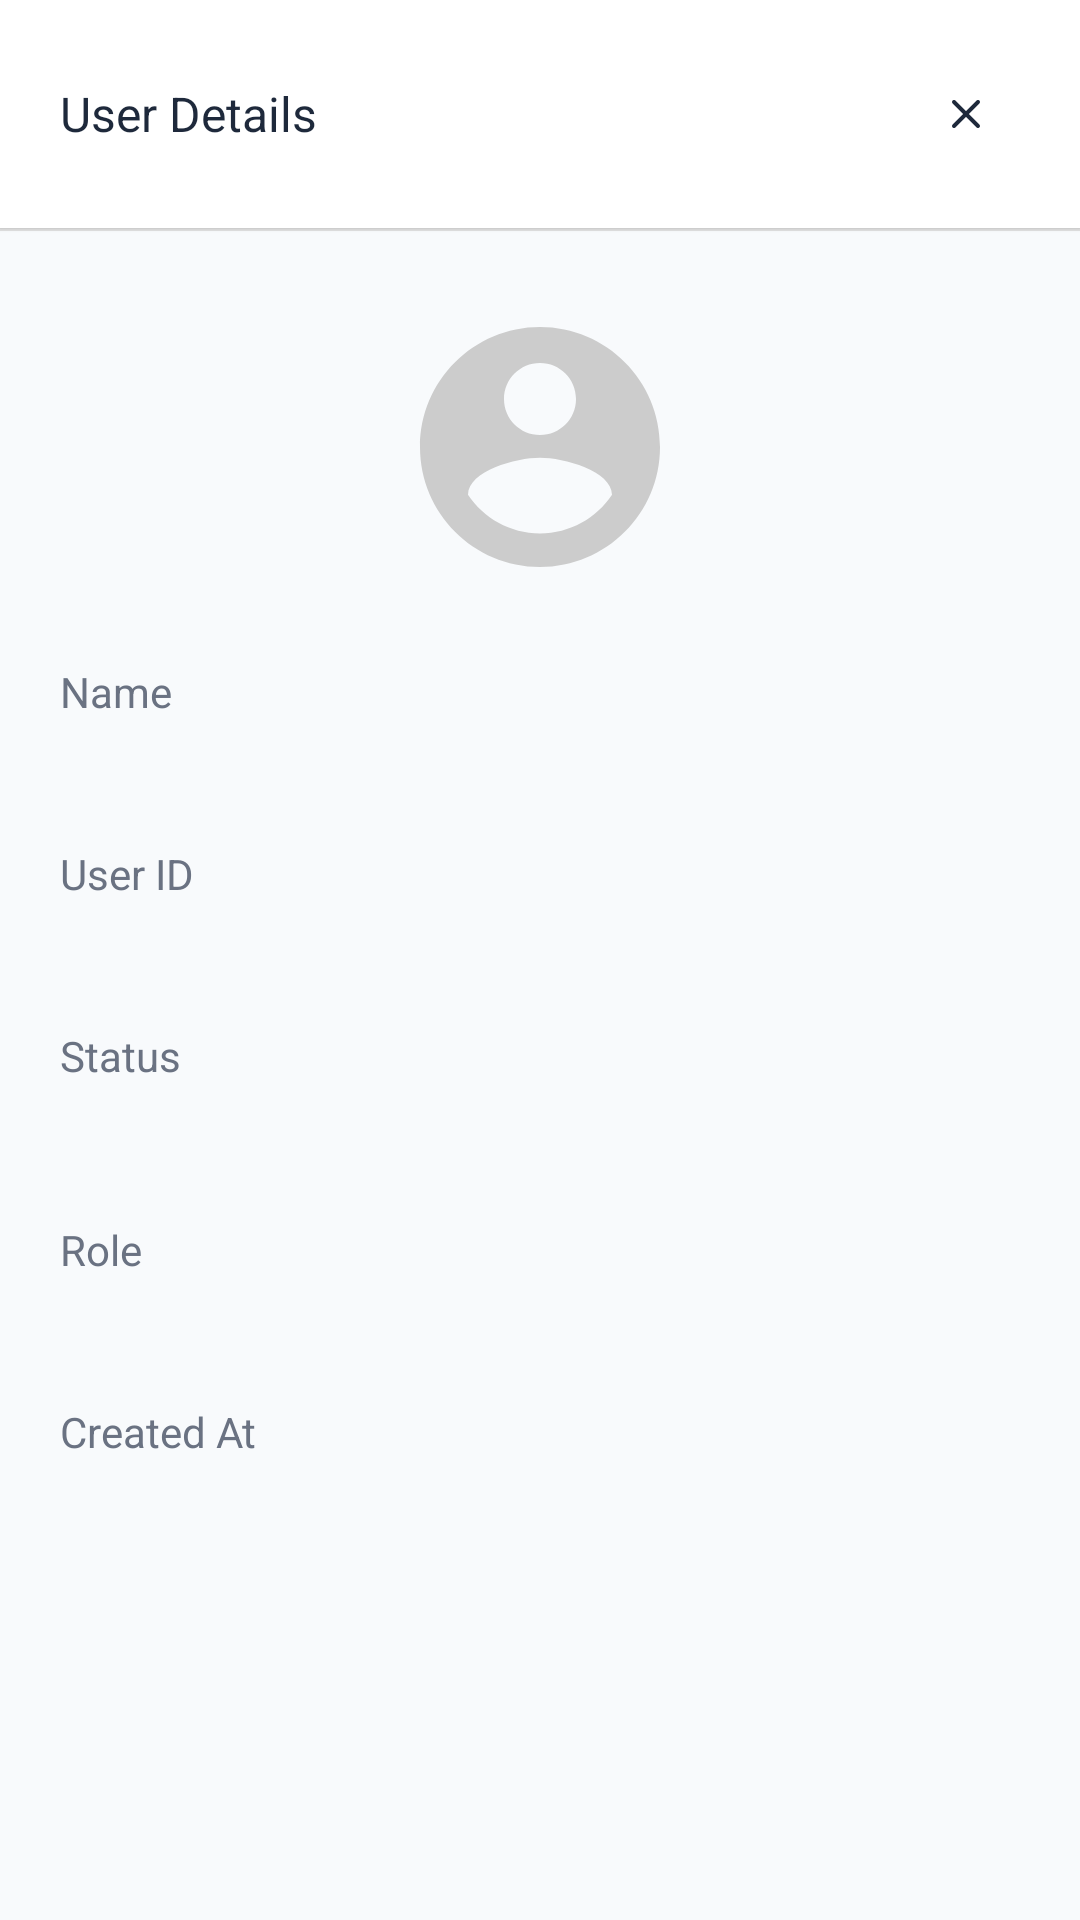

Icons on this 1080px x 1920px Android screen, each with the point to tap as [x,y]:
Close: [966,114]
